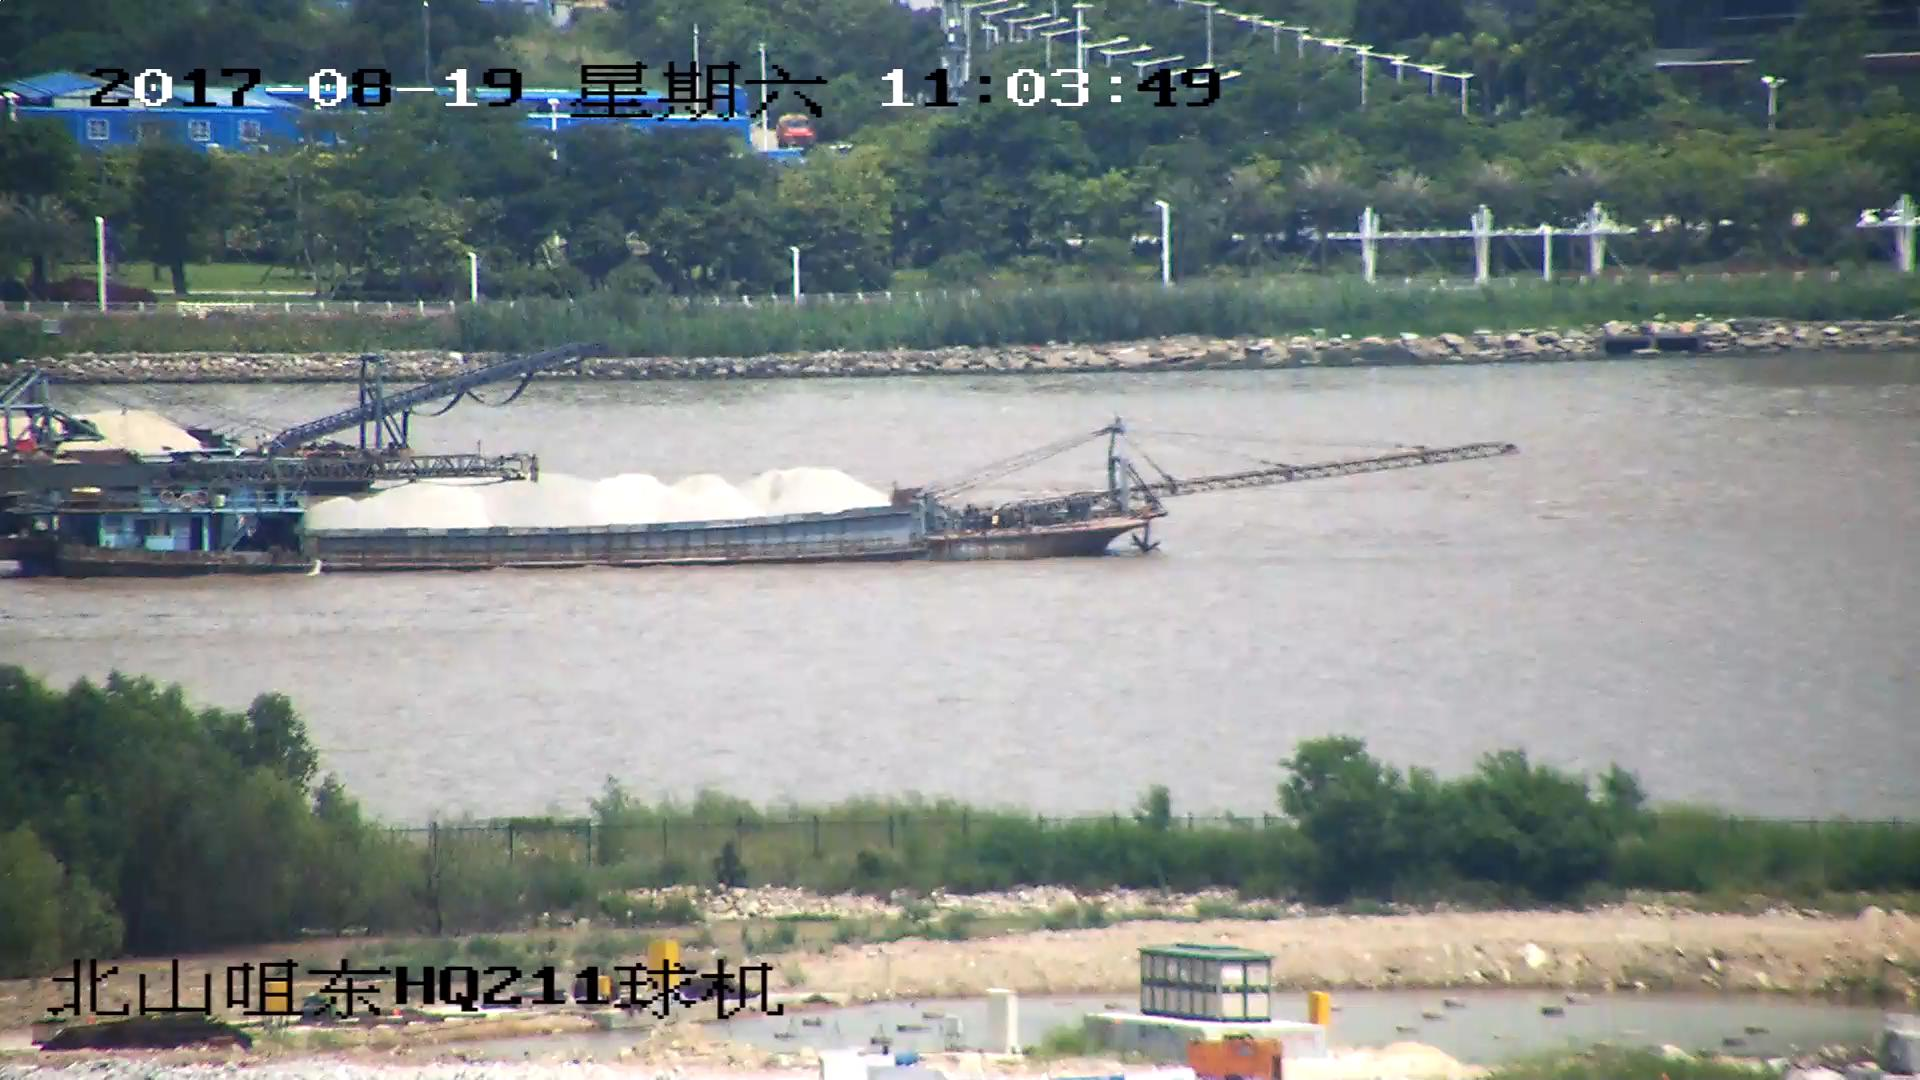ore carrier: (1, 433, 1518, 573), (1, 343, 600, 493)
